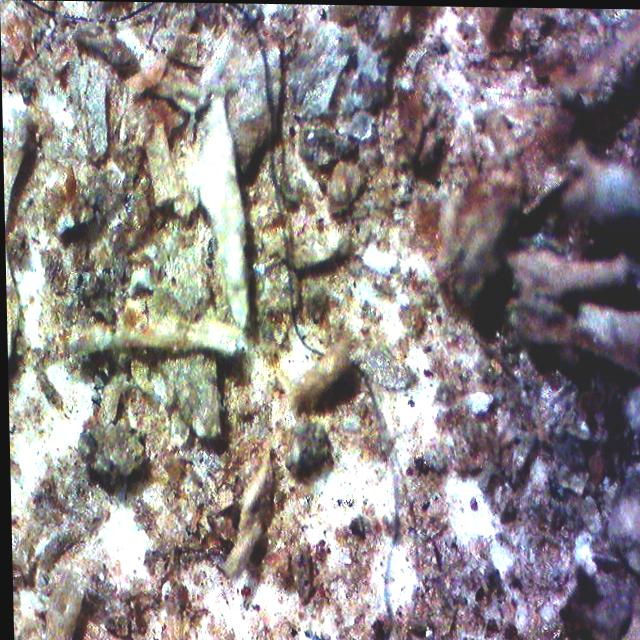microplastic: (226, 0, 325, 361), (20, 0, 160, 25)
